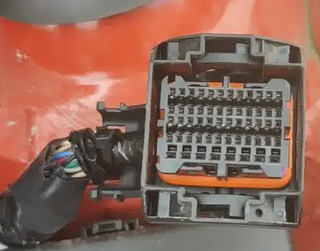connector: (140, 33, 305, 229)
